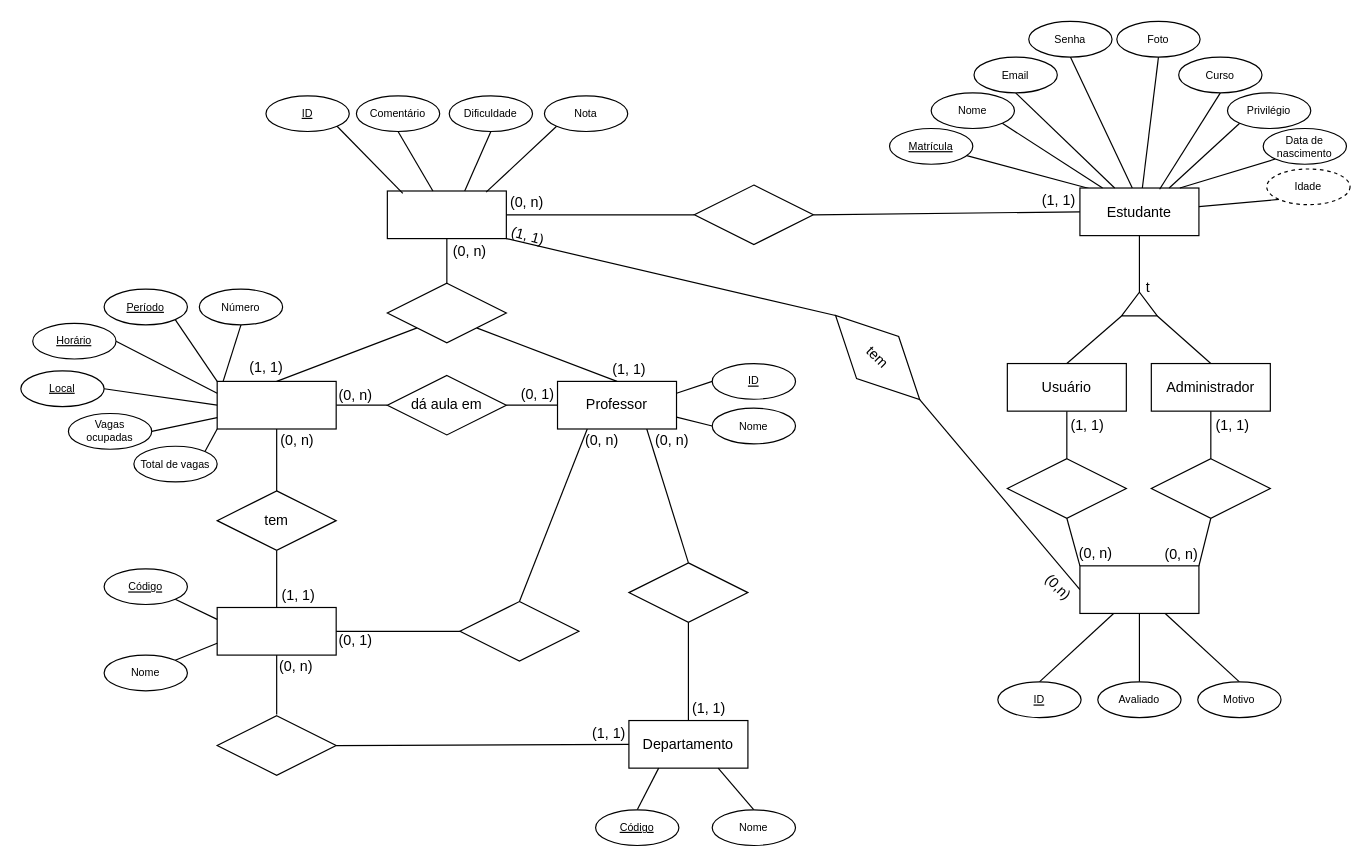
The diagram is 1371 pixels wide and 866 high, and some of its shapes have lost their labels. Here are the shapes that lost their labels. From the top down, the centre of each, then its label:
the point at 446,214: Avaliação
the point at 753,214: escreve
the point at 446,312: sobre
the point at 276,404: Turma
the point at 1066,488: faz
the point at 1210,488: avalia
the point at 688,592: trabalha em
the point at 1139,589: Denúncia
the point at 276,630: Disciplina
the point at 519,630: ministra
the point at 276,745: pertence a
